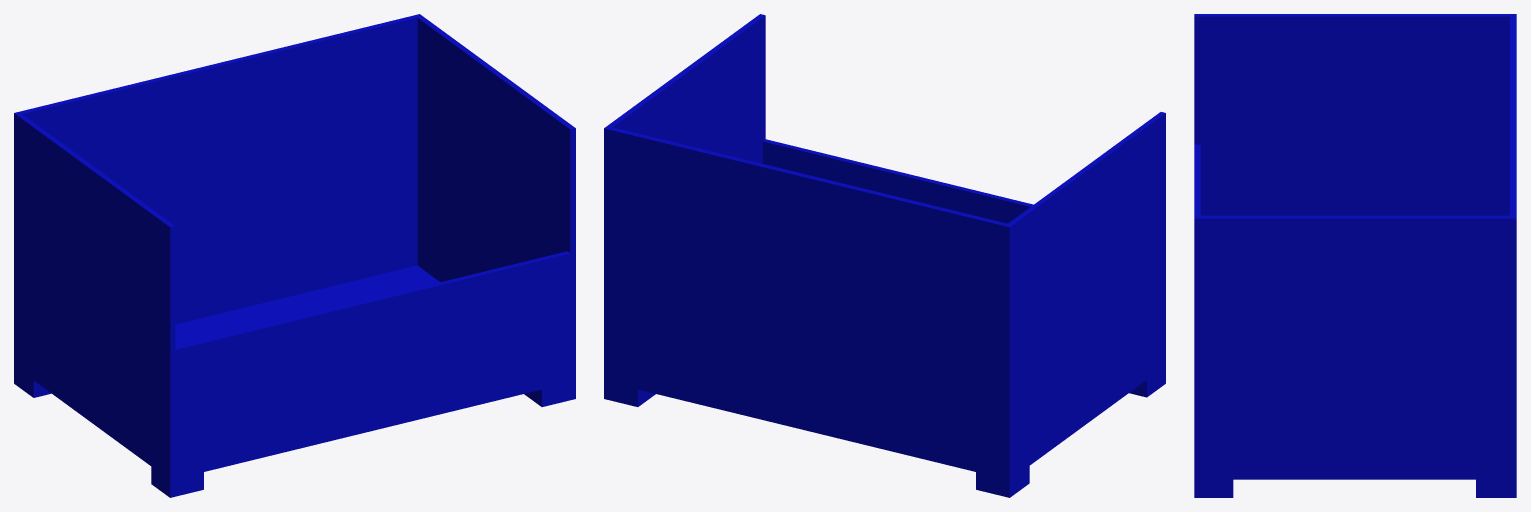
The model's file is Gitterbox.fbx.
3 renders of one model, left to right at view 1: azimuth 30°, elevation 25°; view 2: azimuth 150°, elevation 25°; view 3: azimuth 270°, elevation 25°, orthographic. The views are drawn at different scales.
Visible parts, largest first — view 1: Gitterbox_1; view 2: Gitterbox_1; view 3: Gitterbox_1.
Boxes of the visible parts, x1,y1,x2,y2 form: Gitterbox_1: [14, 14, 575, 497]; Gitterbox_1: [604, 14, 1165, 497]; Gitterbox_1: [1194, 14, 1516, 497].
Bounding box in the file's own units: 120 × 76.48 × 80.
